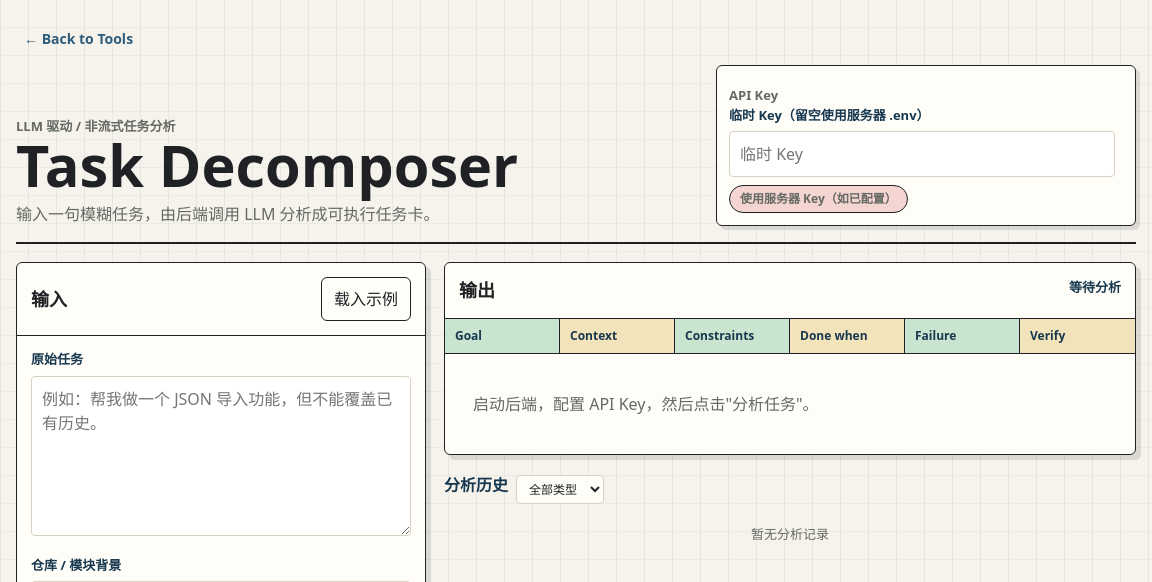
TaskDecomposerPlugin request ordering › only accepts the latest history filter response
Step 1. Select "功能迭代" in the dropdown showing "全部类型" → (560, 489), box [516,474,604,504]
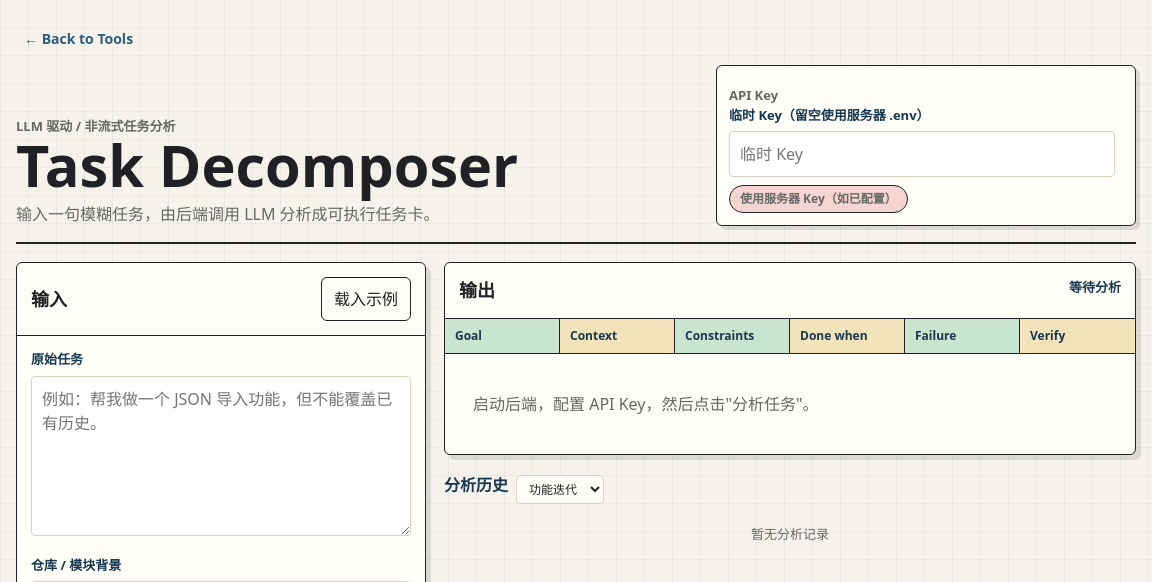
Step 2. Select "Bug 修复" in the dropdown showing "全部类型" → (560, 489), box [516,474,604,504]
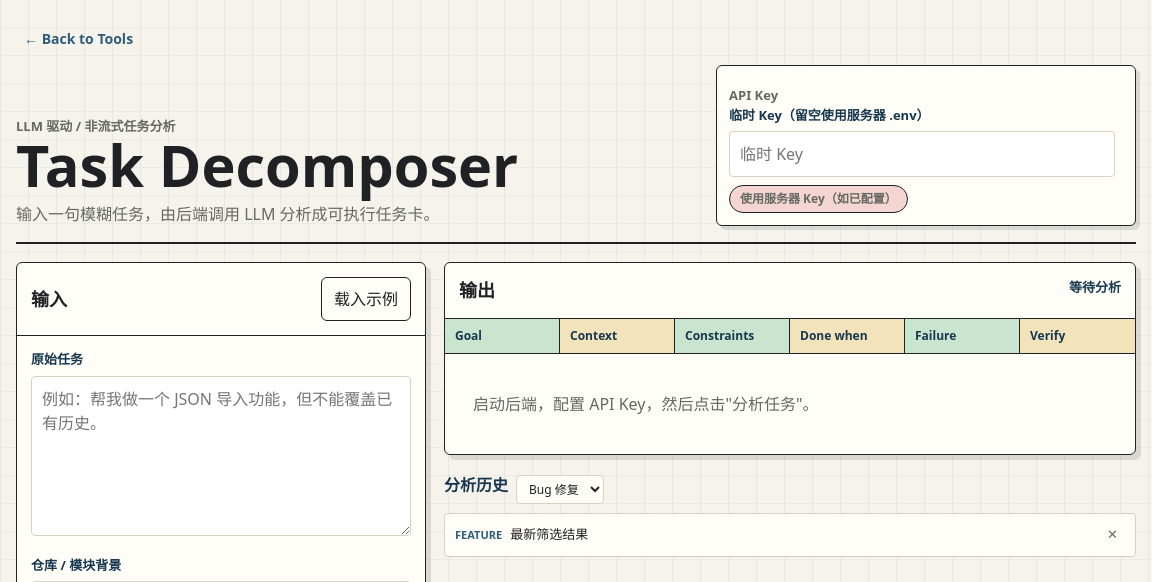
Check: the text "最新筛选结果" is shown, box [510,525,588,543]
